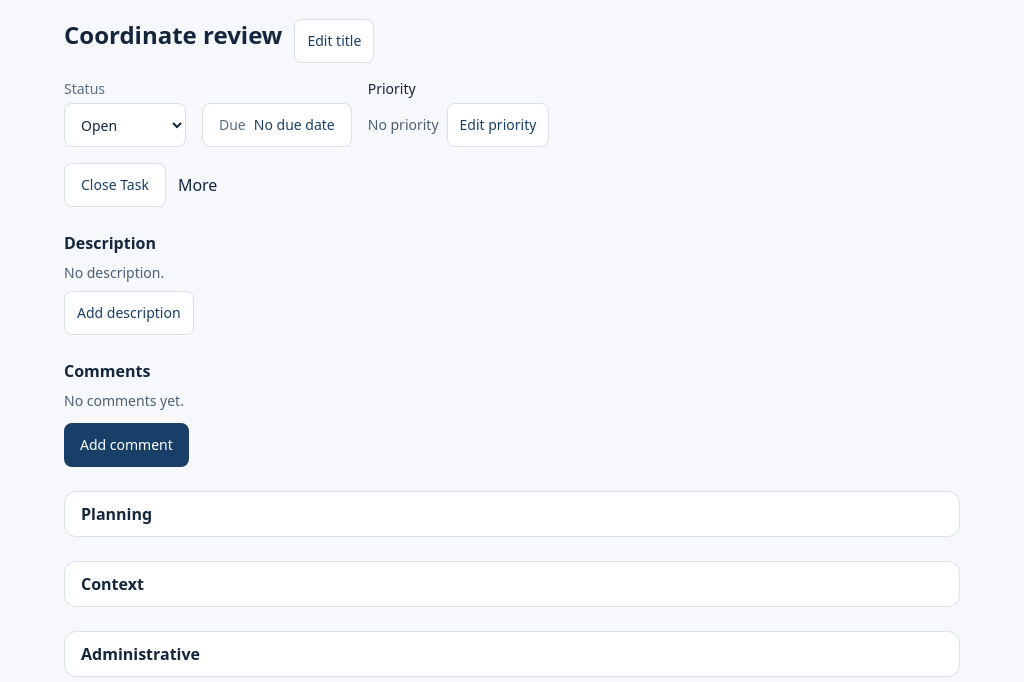
Test: TaskDetailView authoritative draft / conflict › keeps a dirty title when a newer canonical arrives via refresh
The width and height of the screenshot is (1024, 682).
Step 1. Click the button with test id "task-edit-title" → point(334, 41), box x1=294 y1=19 x2=374 y2=63
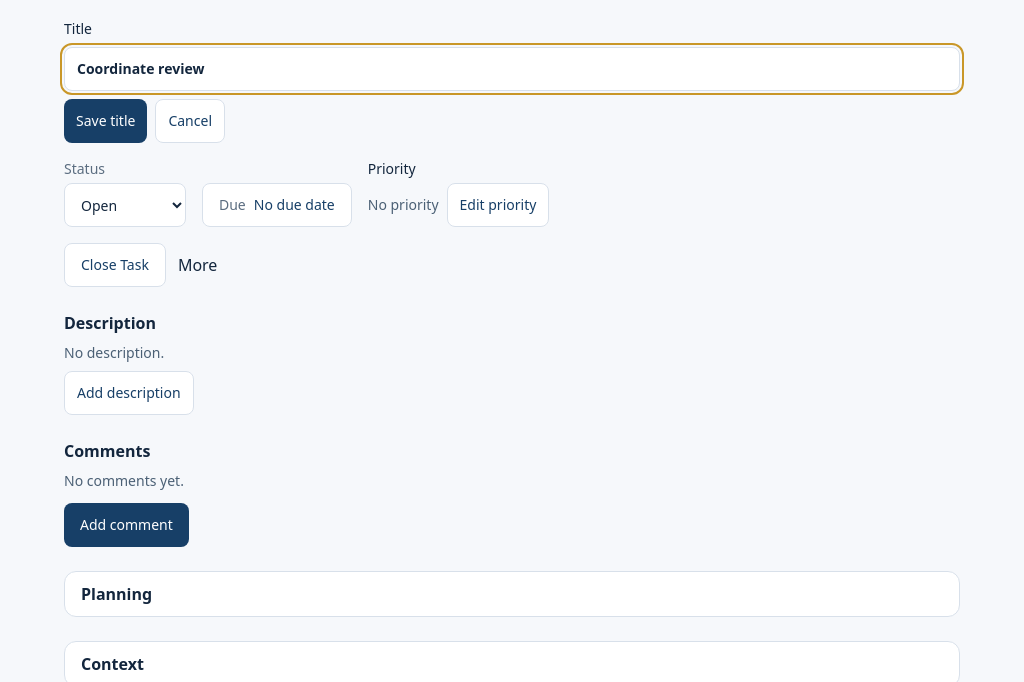
Step 2. Replace the text in the field labelled "Title" with "Local unsaved title" → point(512, 69), box x1=64 y1=47 x2=960 y2=91
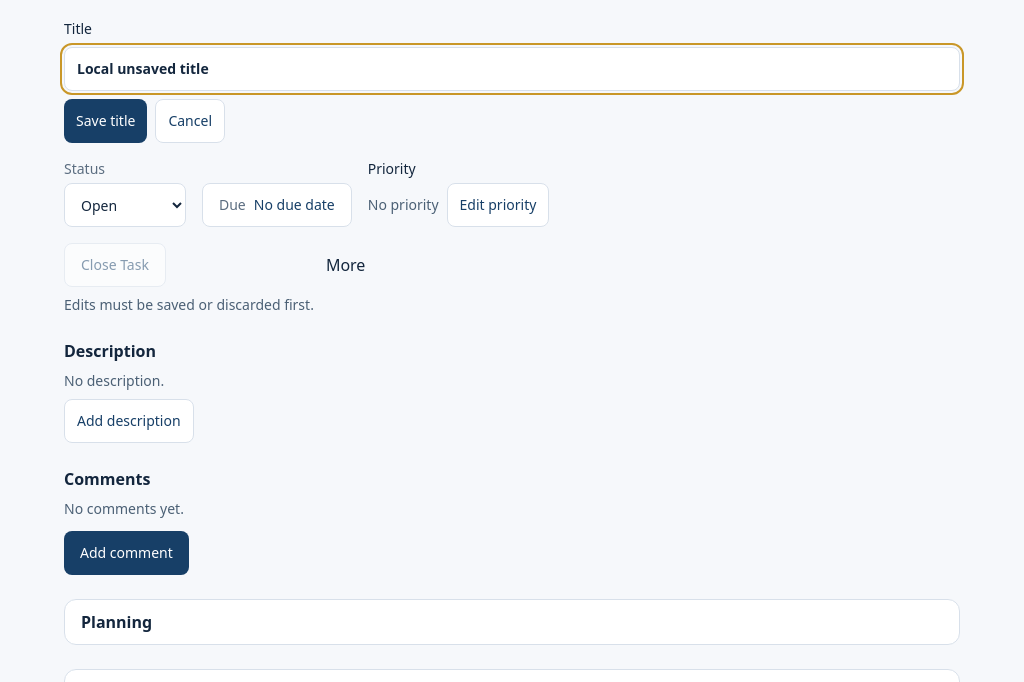
Step 3. Click the heading "More" → point(346, 265), box x1=326 y1=254 x2=365 y2=276
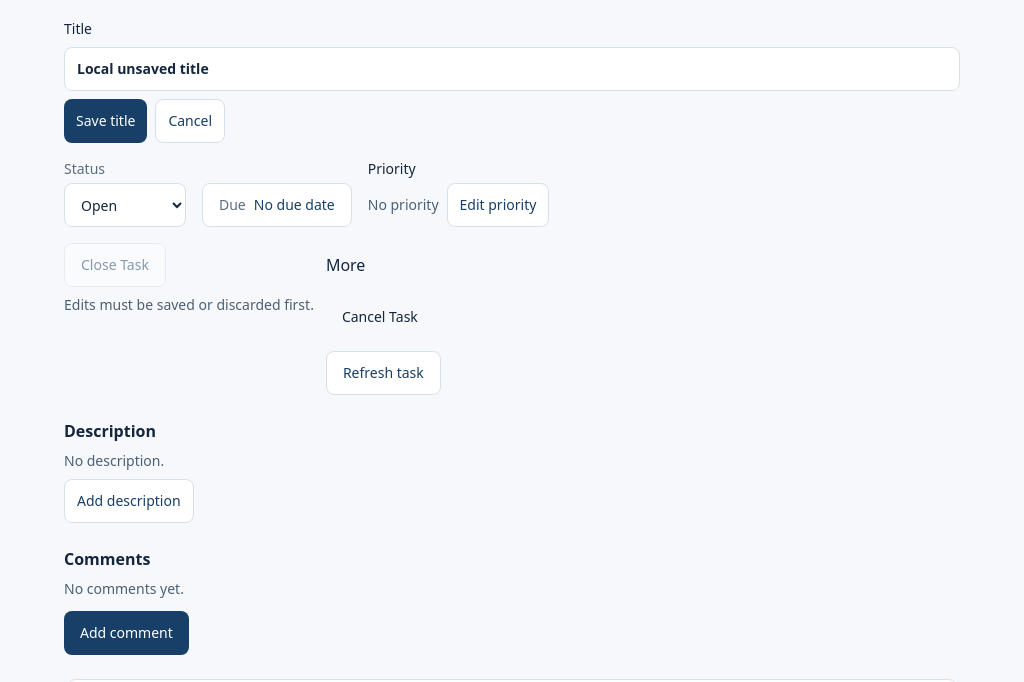
Step 4. Click the button with test id "task-detail-refresh" → point(383, 373), box x1=326 y1=351 x2=441 y2=395
(page scrolled)
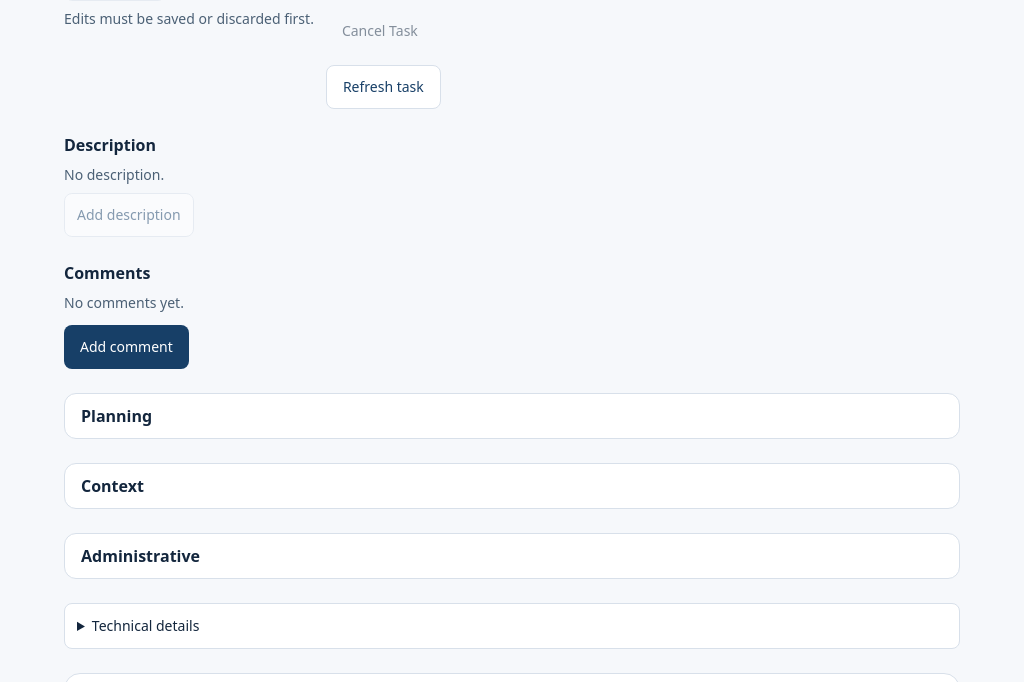
Step 5. Click the heading "Technical details" → point(146, 626), box x1=92 y1=616 x2=199 y2=635
(page scrolled)
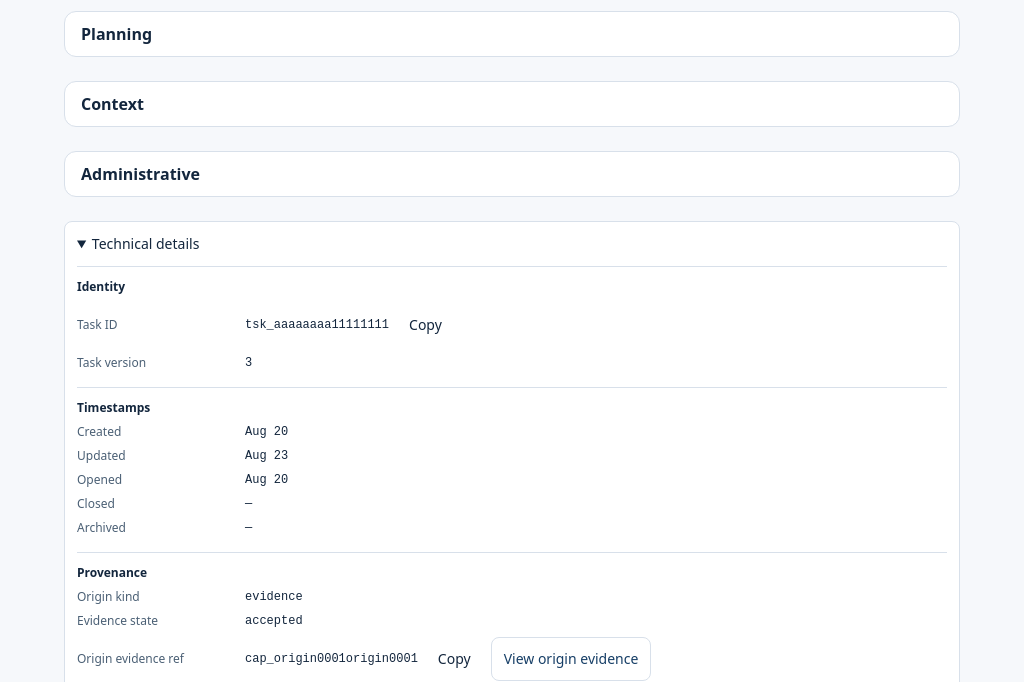
Now the text "3" is shown, box x1=245 y1=355 x2=252 y2=371
